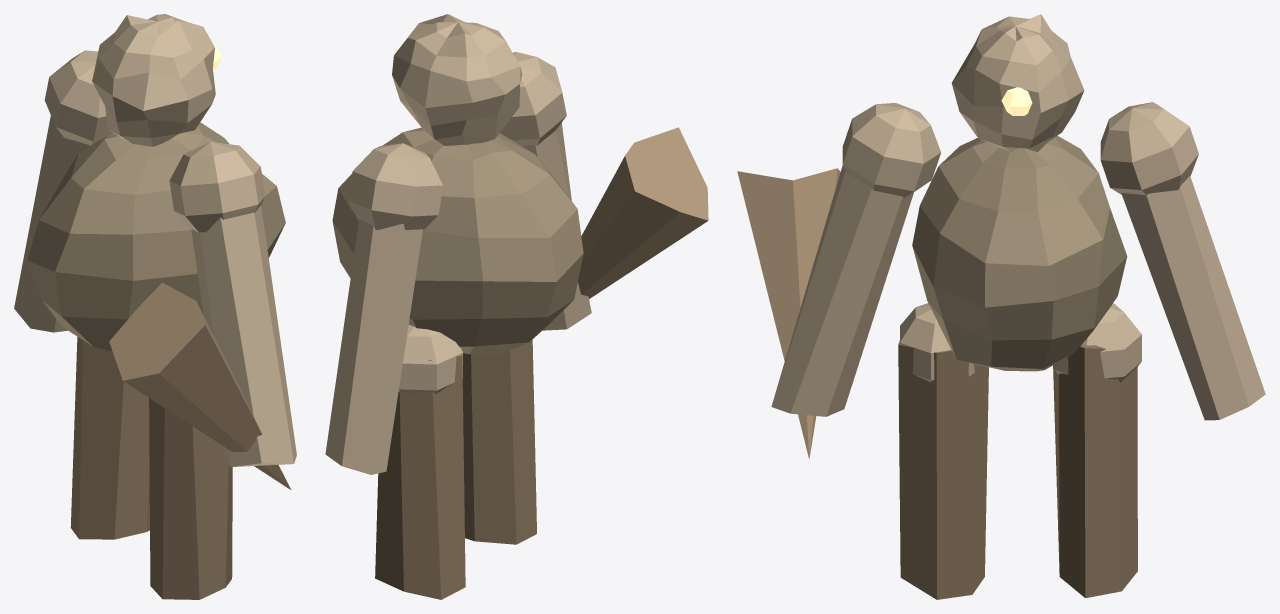
The model's file is cyclops.glb.
The picture shows the model from 3 angles, left to right: view 1: azimuth 30°, elevation 25°; view 2: azimuth 150°, elevation 25°; view 3: azimuth 270°, elevation 25°; orthographic projection. The views are drawn at different scales.
Parts seen in each view (by area): view 1: body, armR, legR, clubm, legL, skull, shoulder.001, shoulder, armL; view 2: body, legL, armL, legR, skull, clubm, shoulder, shoulder.001, hip, armR; view 3: body, legR, legL, armR, armL, skull, clubm, shoulder, shoulder.001, hip, hip.001, eye.
Boxes of the visible parts, box(x1,y1,x2,y2) form: body: box(27, 122, 285, 350); armR: box(191, 205, 296, 466); legR: box(149, 398, 232, 599); clubm: box(109, 282, 290, 489); legL: box(70, 337, 149, 539); skull: box(92, 14, 215, 146); shoulder.001: box(169, 142, 265, 233); shoulder: box(44, 50, 112, 145); armL: box(14, 115, 89, 332); body: box(332, 127, 583, 357); legL: box(375, 355, 465, 599); armL: box(325, 219, 422, 474); legR: box(462, 339, 536, 544); skull: box(392, 14, 522, 145); clubm: box(578, 127, 708, 298); shoulder: box(348, 143, 442, 230); shoulder.001: box(500, 51, 566, 145); hip: box(398, 324, 462, 394); armR: box(522, 122, 591, 330); body: box(912, 135, 1127, 371); legR: box(898, 340, 988, 599); legL: box(1053, 344, 1137, 598); armR: box(771, 165, 913, 416); armL: box(1121, 176, 1265, 420); skull: box(951, 14, 1084, 152); clubm: box(737, 168, 840, 458); shoulder: box(1100, 102, 1198, 195); shoulder.001: box(842, 103, 941, 198); hip: box(1054, 303, 1141, 382); hip.001: box(900, 303, 974, 382); eye: box(1001, 87, 1032, 115).
Bounding box in the file's own units: 1.29 × 2.6 × 2.23.
